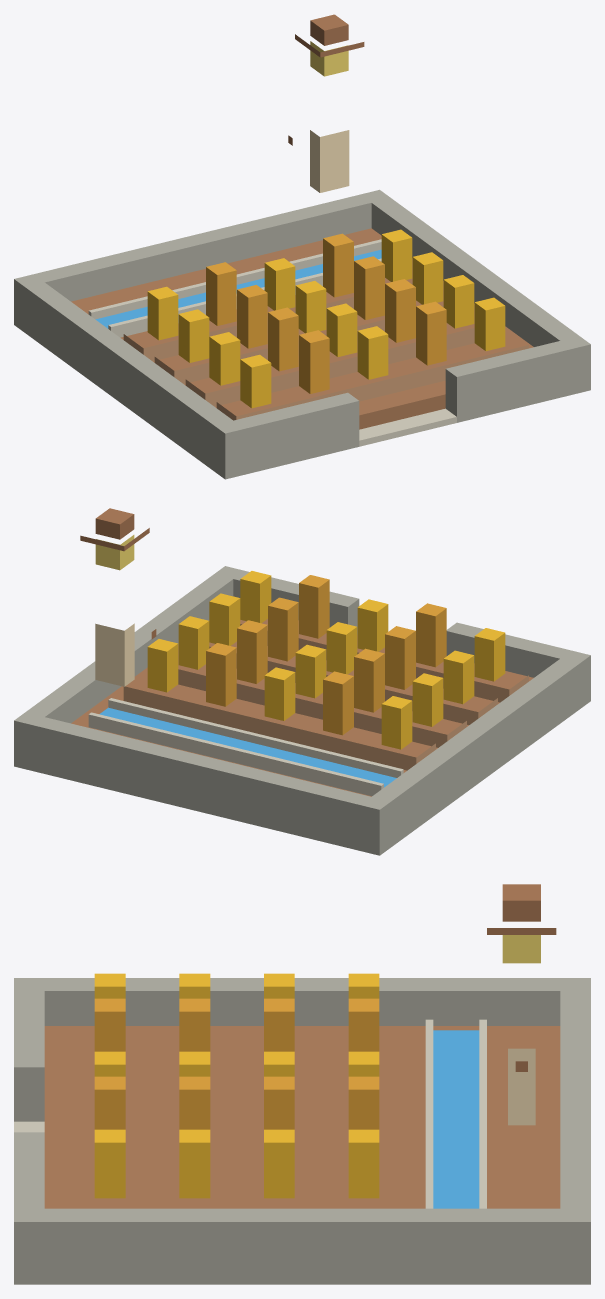
File: field_t3_v1.glb
The picture shows the model from 3 angles, top to bottom: view 1: azimuth 30°, elevation 25°; view 2: azimuth 150°, elevation 25°; view 3: azimuth 270°, elevation 25°; orthographic projection. The views are drawn at different scales.
Visible parts, largest first — view 1: field_t3_v1; view 2: field_t3_v1; view 3: field_t3_v1.
Boxes of the visible parts, box(x1,y1,x2,y2) form: field_t3_v1: box(14, 14, 590, 479); field_t3_v1: box(14, 508, 590, 855); field_t3_v1: box(14, 884, 590, 1284).
Size of the model in its own units: 0.75 by 0.49 by 0.75.
1 material, 1 textured.
